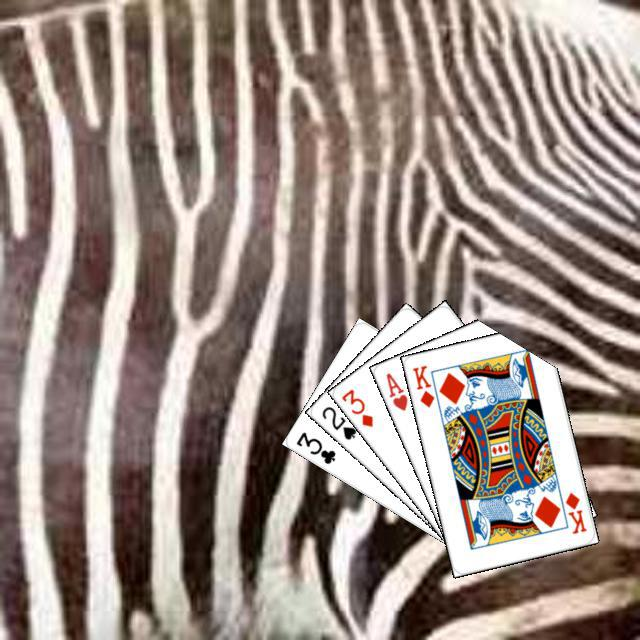2s: (317, 401, 358, 442)
3c: (291, 427, 337, 466)
3d: (337, 384, 375, 429)
Ah: (381, 368, 410, 413)
Kd: (408, 360, 436, 409), (560, 487, 588, 536)
